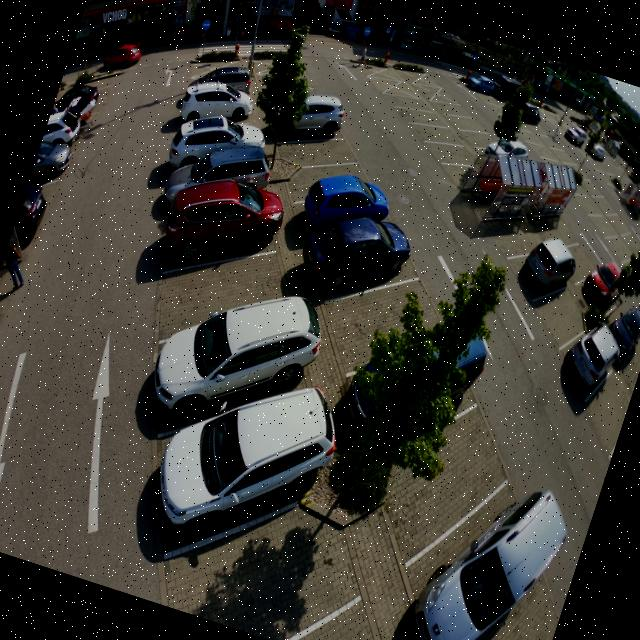empty: (222, 510, 332, 640), (404, 415, 511, 536), (346, 278, 426, 358), (191, 247, 266, 316), (305, 597, 418, 640), (472, 613, 555, 640), (302, 126, 348, 166), (292, 160, 334, 203)
occupied: (145, 398, 315, 565), (152, 292, 314, 442), (412, 495, 552, 640), (359, 304, 497, 440), (162, 164, 286, 278), (313, 206, 402, 302), (187, 131, 282, 210), (307, 162, 388, 243), (166, 108, 238, 176), (284, 79, 355, 145), (181, 74, 251, 130), (198, 58, 264, 97)
